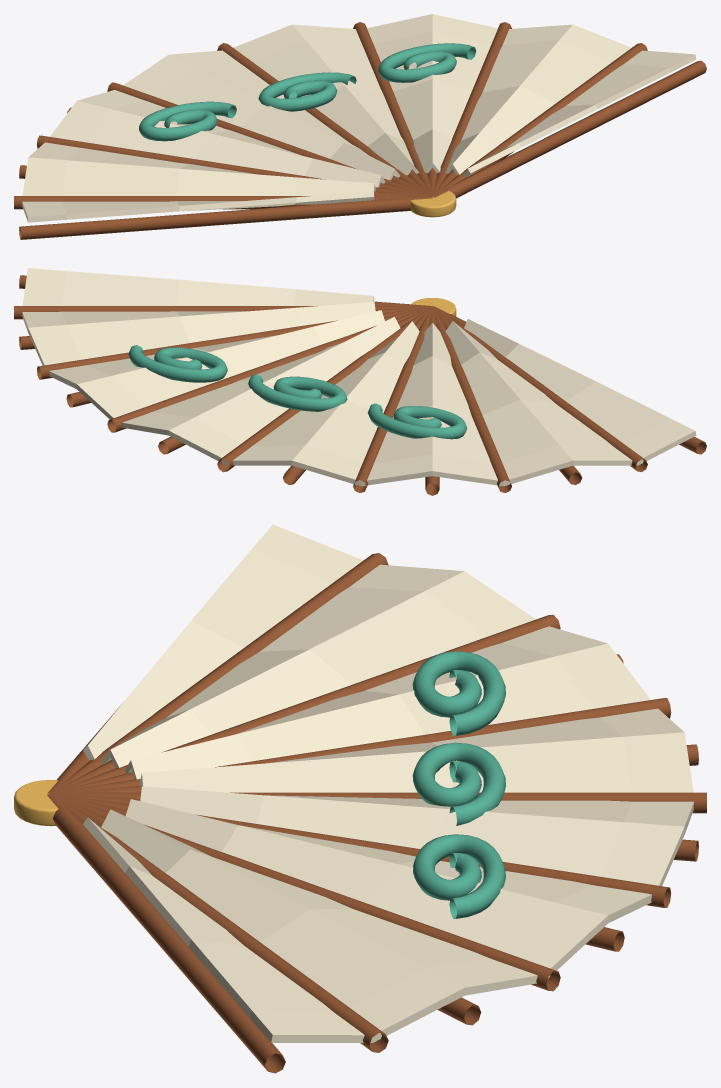
Rendered from prop-fan.glb.
3 renders of one model, top to bottom at view 1: azimuth 30°, elevation 25°; view 2: azimuth 150°, elevation 25°; view 3: azimuth 270°, elevation 25°, orthographic. The views are drawn at different scales.
Parts seen in each view (by area): view 1: prop-fan; view 2: prop-fan; view 3: prop-fan.
Part boxes in pixels (<box>): prop-fan: <box>14,14,706,239</box>; prop-fan: <box>14,268,706,495</box>; prop-fan: <box>14,524,706,1073</box>.
Size of the model in its own units: 2 by 0.076 by 1.12.
